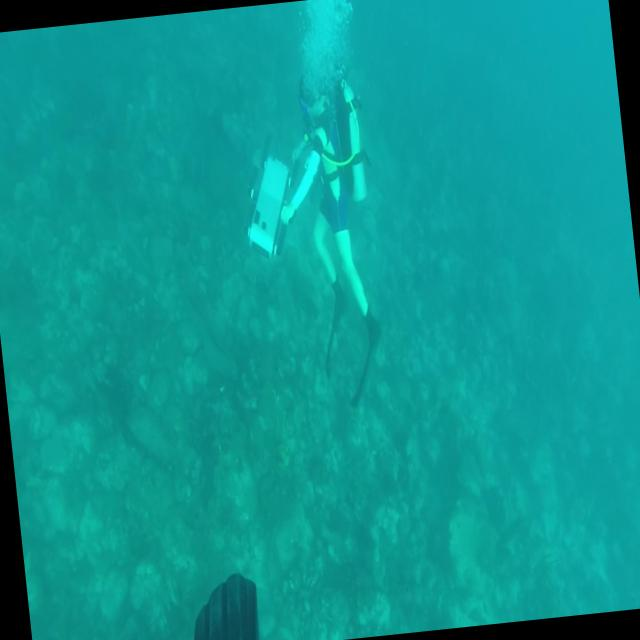human: (263, 66, 396, 413)
